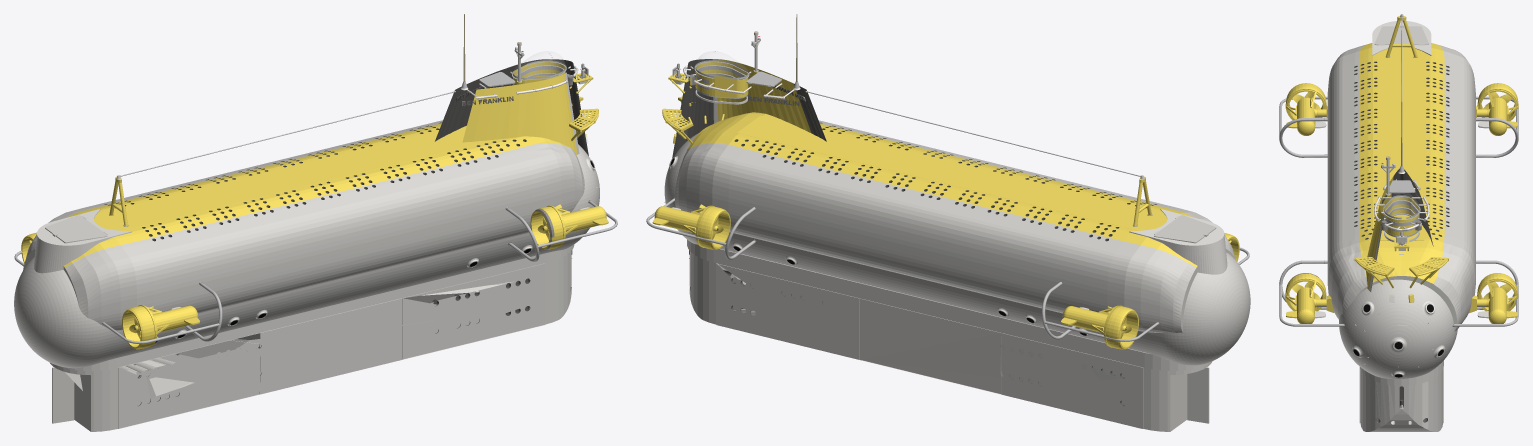
The model's file is Ben Franklin.glb.
3 renders of one model, left to right at view 1: azimuth 30°, elevation 25°; view 2: azimuth 150°, elevation 25°; view 3: azimuth 270°, elevation 25°, orthographic. The views are drawn at different scales.
Visible parts, largest first — view 1: MainHull; view 2: MainHull; view 3: MainHull.
Boxes of the visible parts, left/top/right/bottom form: MainHull: left=14, top=14, right=617, bottom=431; MainHull: left=646, top=14, right=1250, bottom=431; MainHull: left=1279, top=14, right=1518, bottom=431.
Size of the model in its own units: 17.85 by 9.25 by 6.82.
